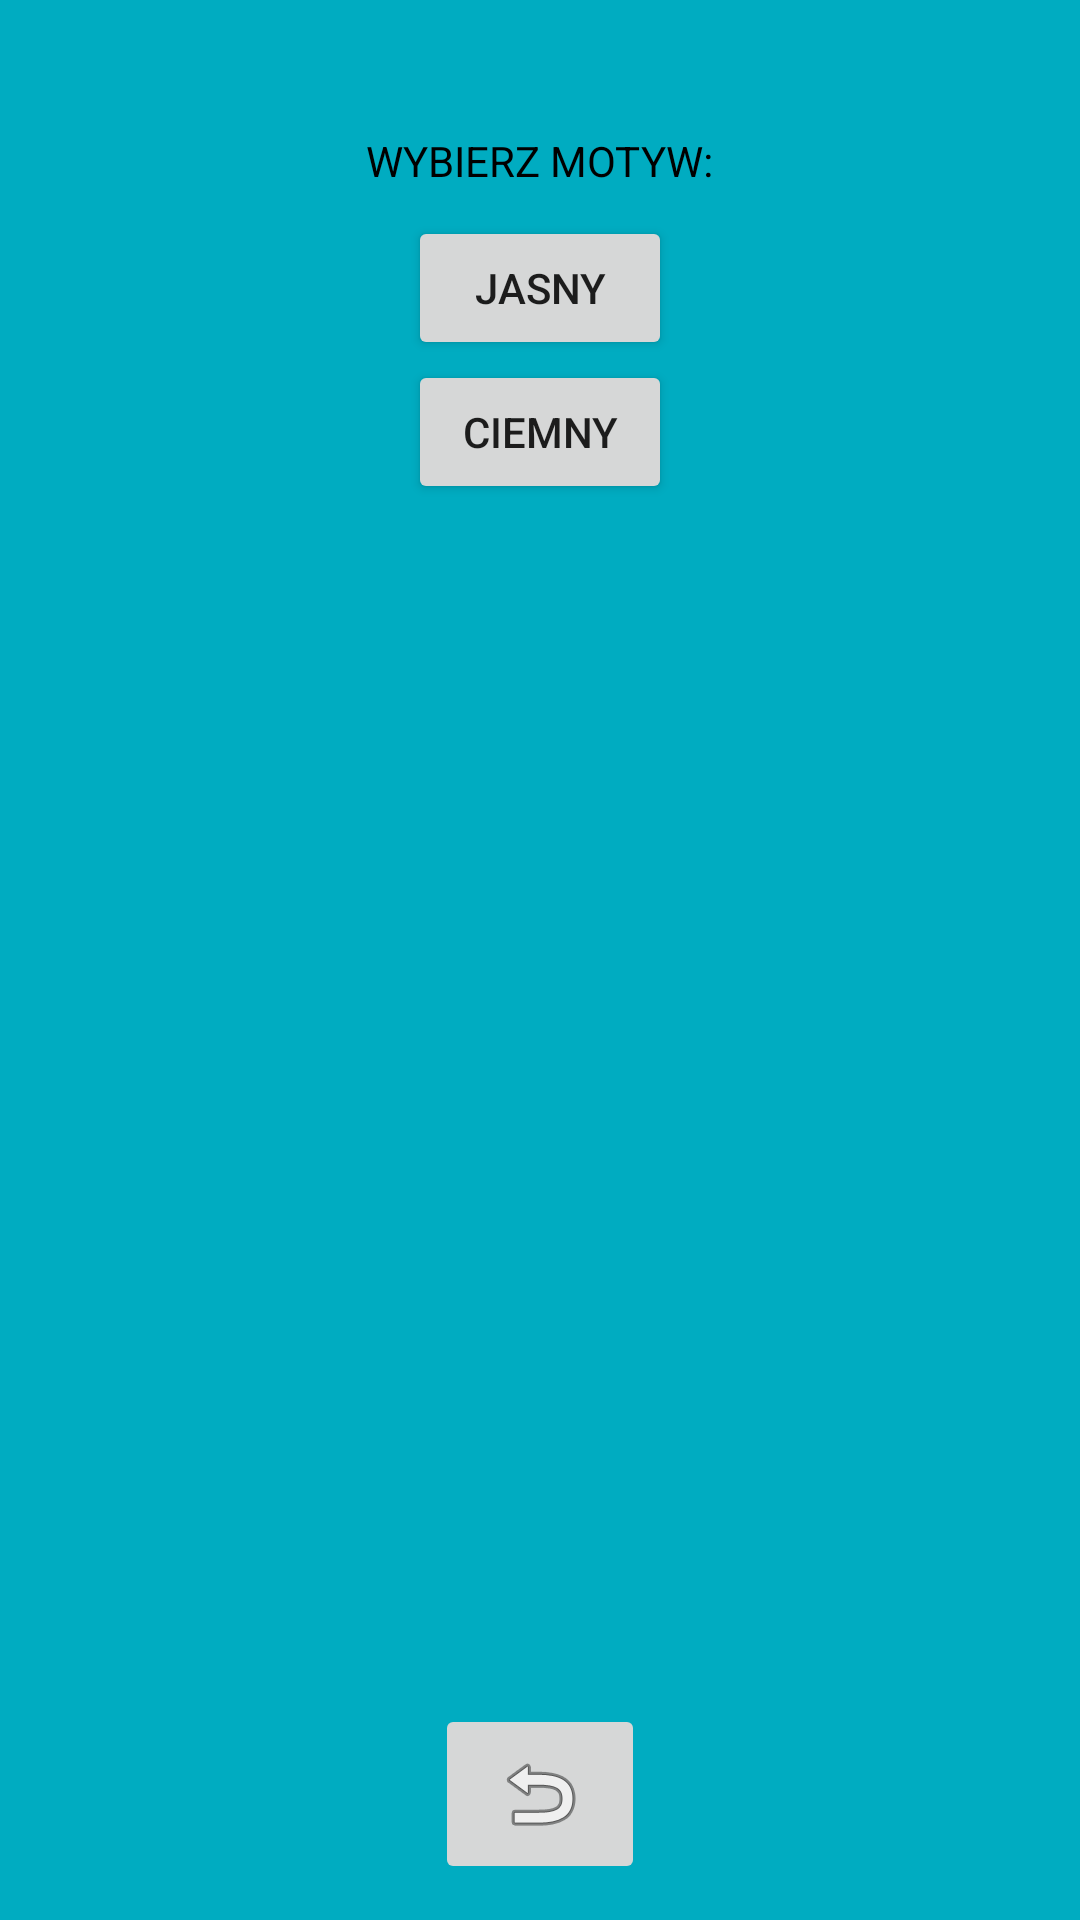

Where to tap for icons on this 1080×1920 app screen, as [x,y]:
revert: [540,1794]
